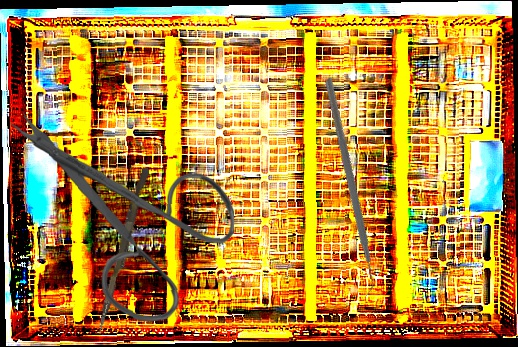Chopper: (233, 76, 458, 303)
Iris Scissors: (2, 111, 238, 324)
Pusher: (96, 166, 150, 336)
